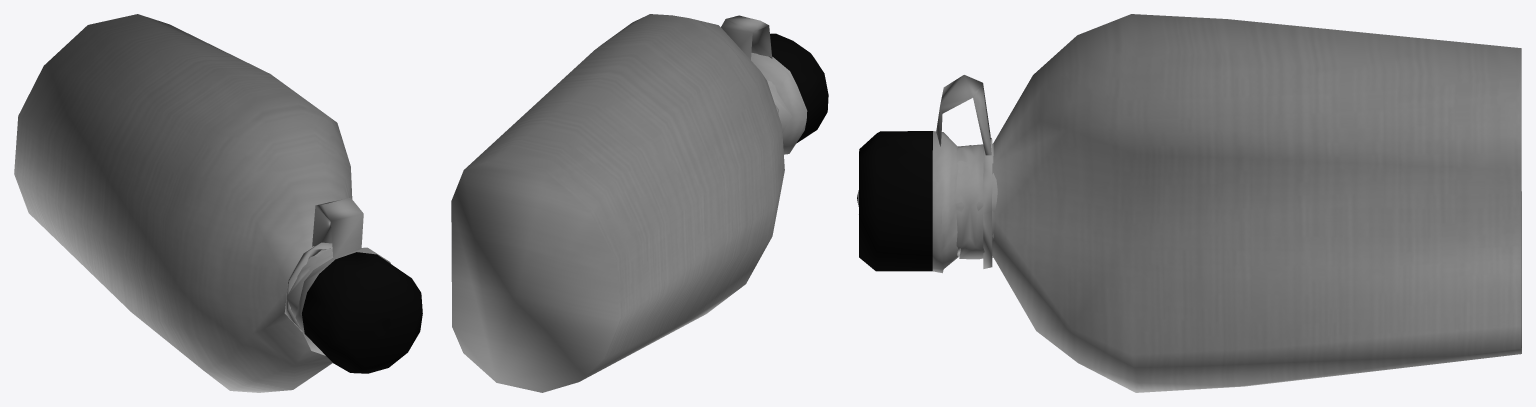
The model's file is AuthenticCanteen.fbx.
The picture shows the model from 3 angles, left to right: view 1: azimuth 30°, elevation 25°; view 2: azimuth 150°, elevation 25°; view 3: azimuth 270°, elevation 25°; orthographic projection. The views are drawn at different scales.
Parts seen in each view (by area): view 1: Canteen; view 2: Canteen; view 3: Canteen.
Boxes of the visible parts, box(x1,y1,x2,y2) form: Canteen: box(14, 14, 422, 392); Canteen: box(451, 14, 828, 392); Canteen: box(857, 14, 1521, 392).
Size of the model in its own units: 0.0578 by 0.0933 by 0.1546.
